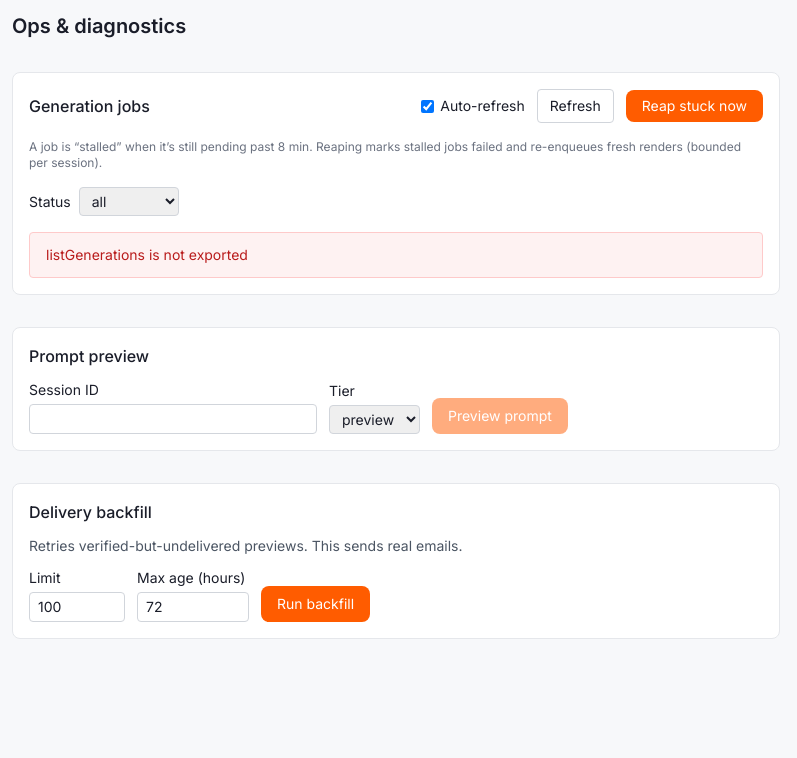
Test case: OpsView delivery backfill › runs the backfill and shows the result
This screenshot has width=797, height=758.
Click the button "Run backfill" at coordinates (316, 604), box 261,586 -> 370,622
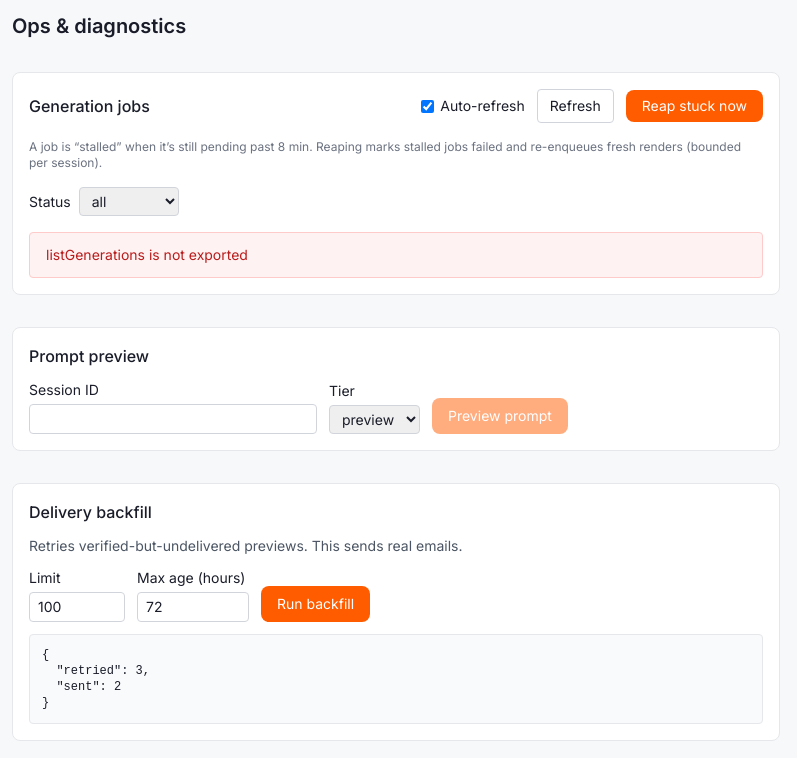
Now the text "{ \"retried\": 3, \"sent\": 2 }" is shown, box 29,634 -> 763,724
